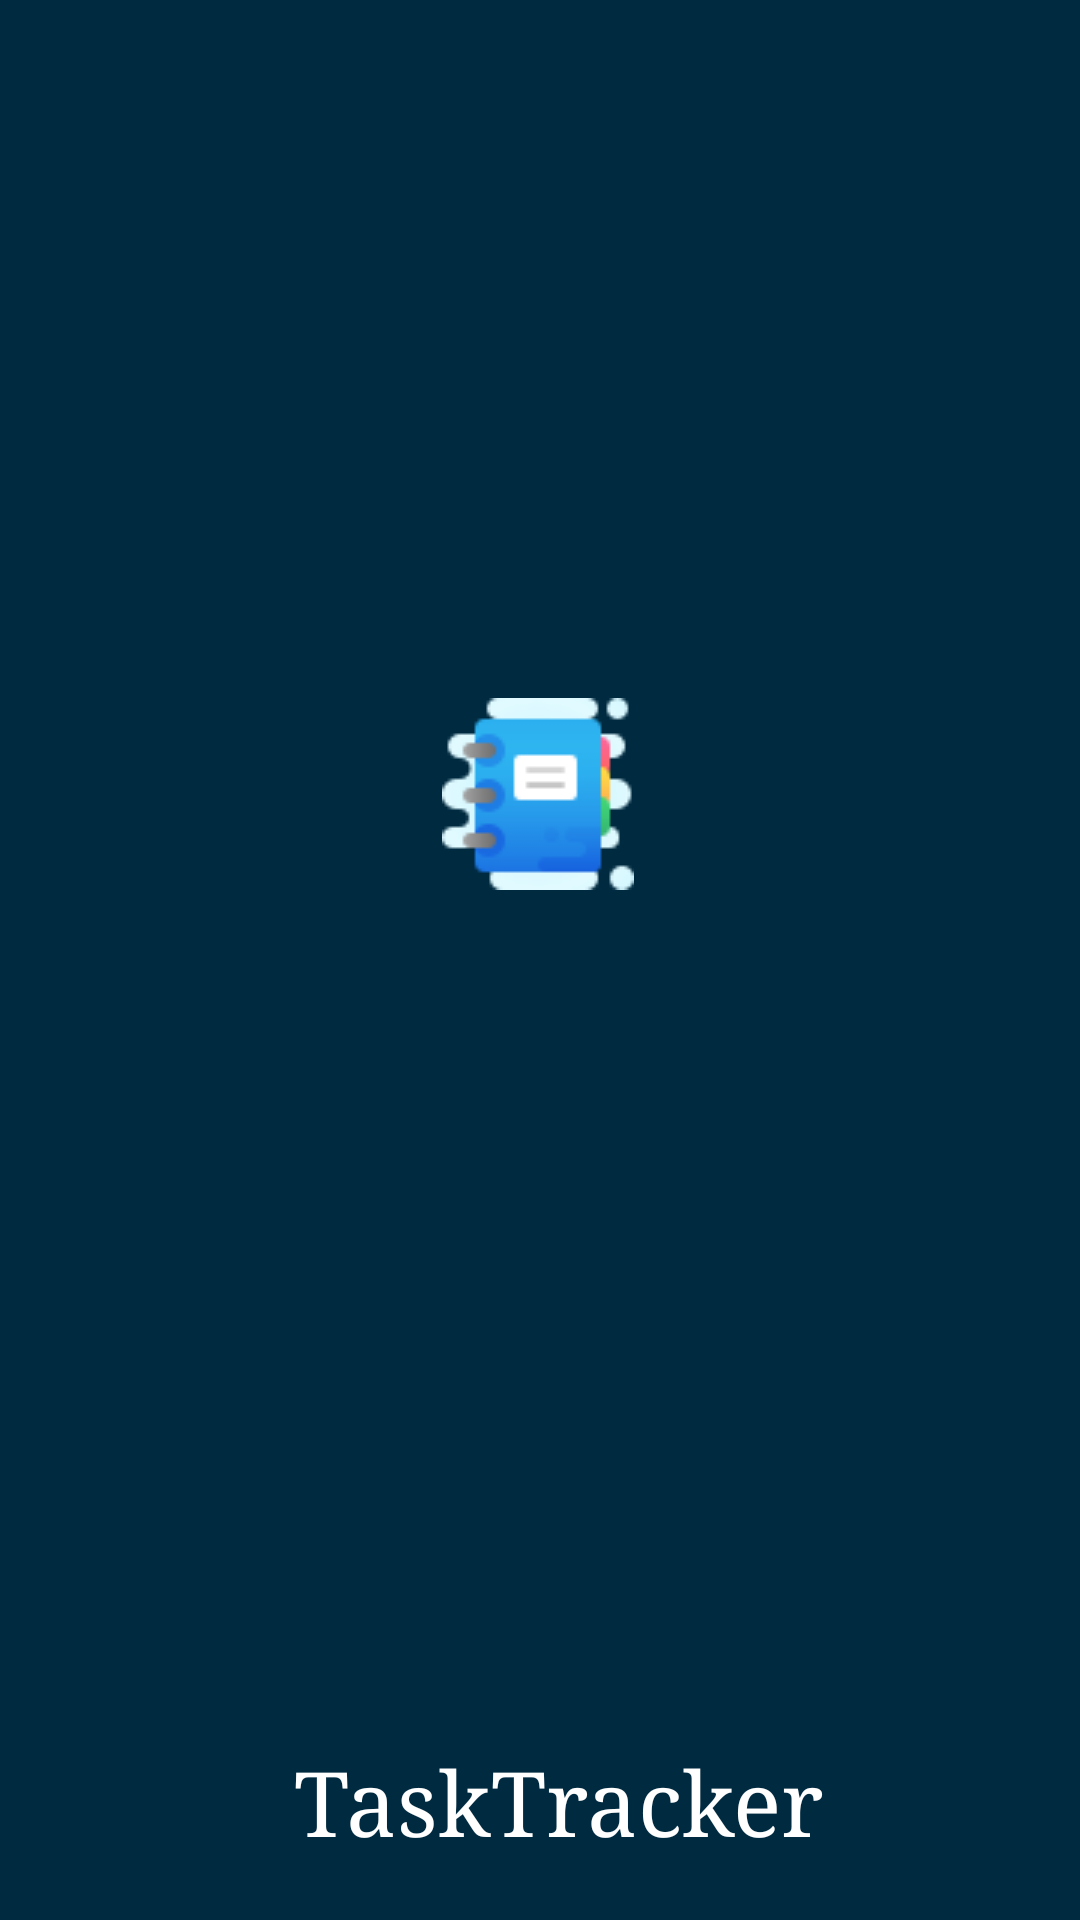

Point at icon controls on the screen. Image size 1080 × 1920, points as point (x, y).
capaicon: point (538, 794)
